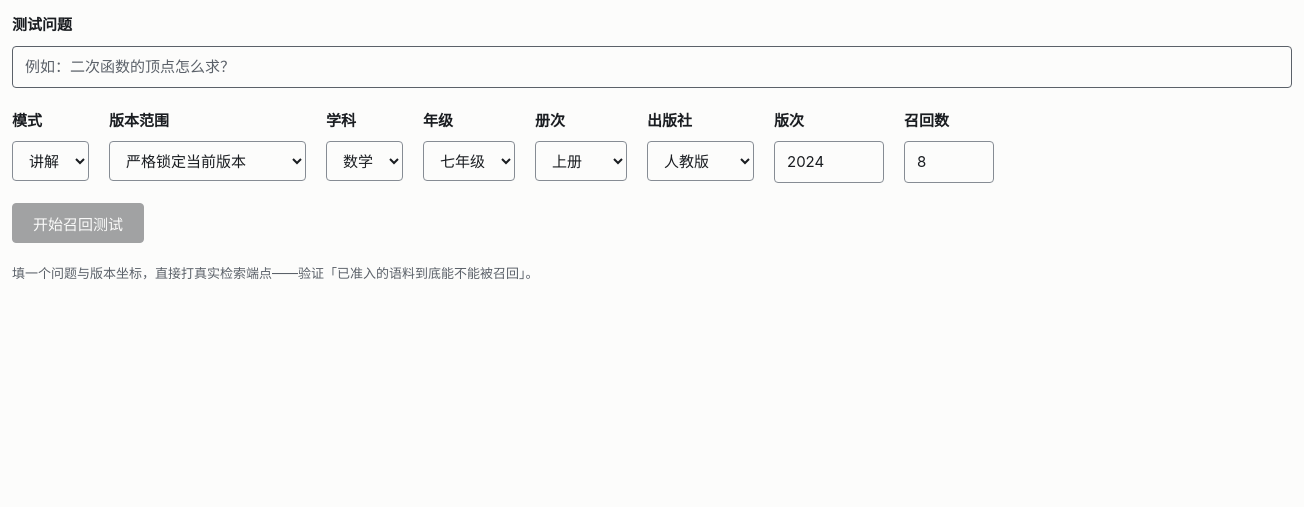
Scenario: 召回测试 › 版本不匹配必须显式提示（引用前须核对）
The image size is (1304, 507).
Type "二次函数" into the field labelled "测试问题" at (652, 66), box [12,46,1292,88]
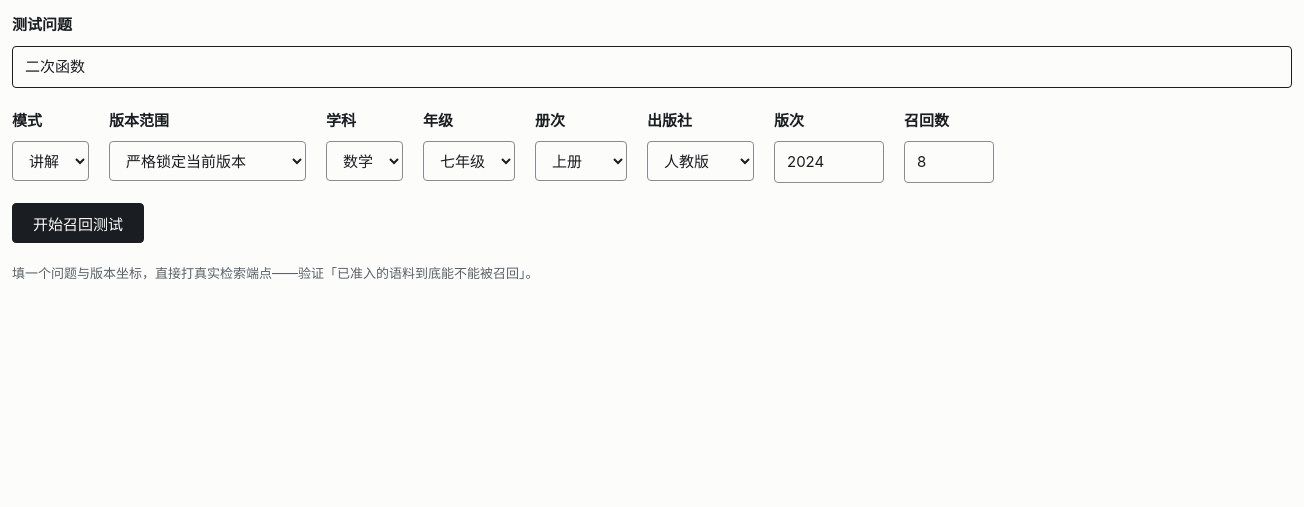
Click the button "开始召回测试" at (78, 223), box [12,203,144,243]
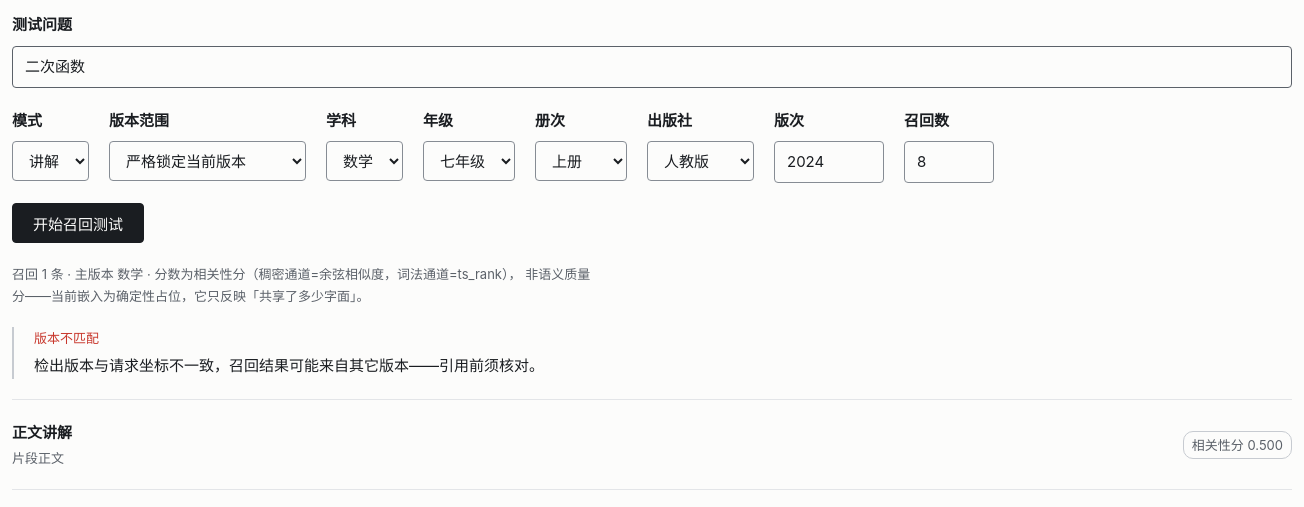
Expected: the text "版本不匹配" is shown, [34,330,99,346]
